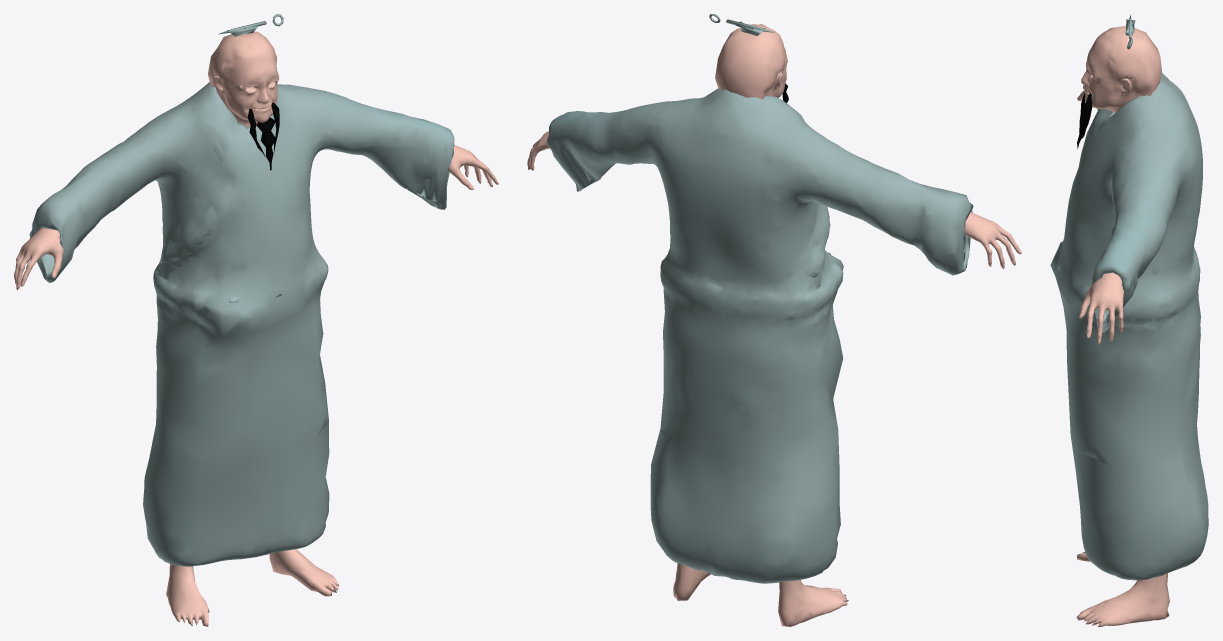
3 renders of one model, left to right at view 1: azimuth 30°, elevation 25°; view 2: azimuth 150°, elevation 25°; view 3: azimuth 270°, elevation 25°, orthographic.
Visible parts, largest first — view 1: BIAN QUE; view 2: BIAN QUE; view 3: BIAN QUE.
Boxes of the visible parts, x1,y1,x2,y2 form: BIAN QUE: [14, 14, 498, 626]; BIAN QUE: [527, 14, 1021, 626]; BIAN QUE: [1050, 14, 1208, 626].
Bounding box in the file's own units: 2.44 × 2.78 × 0.6979.
Materials: 2 (1 with a texture image).
